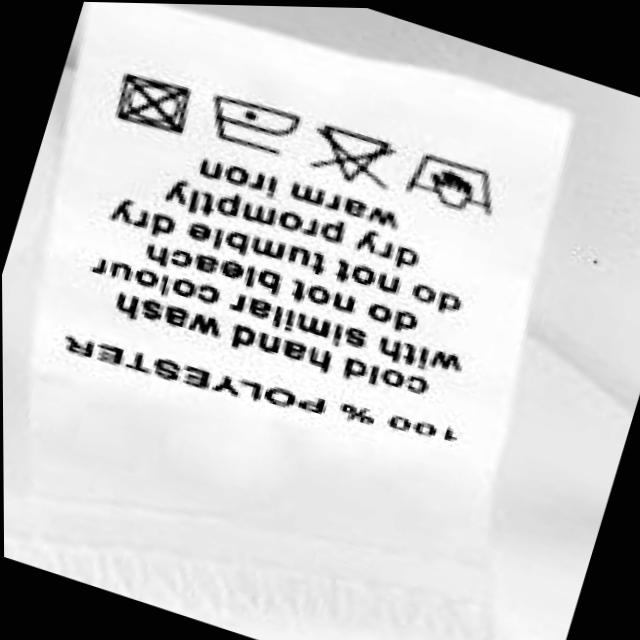DN_bleach: (313, 121, 394, 186)
DN_tumble_dry: (113, 70, 197, 133)
hand_wash: (408, 153, 496, 210)
iron_low: (215, 91, 303, 153)
